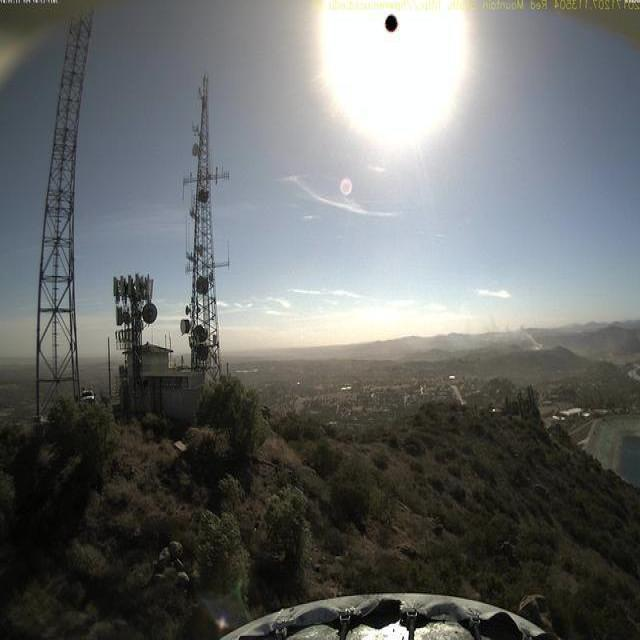smoke: (458, 308, 550, 353)
